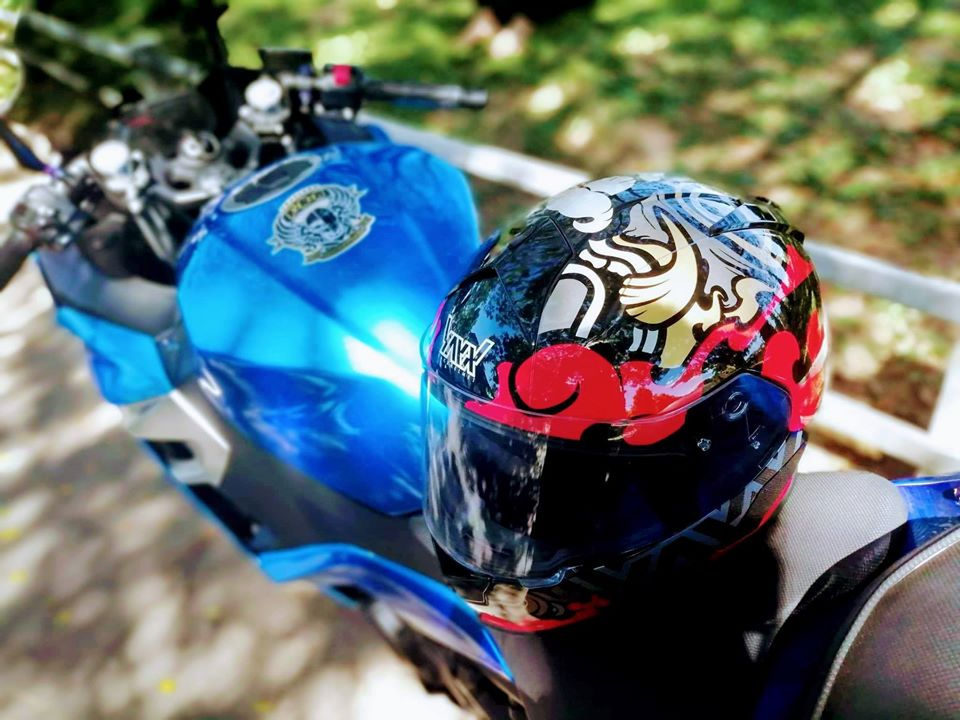helmet: (421, 173, 828, 636)
